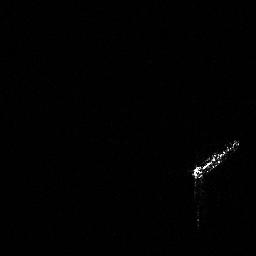ship: (187, 134, 242, 184)
